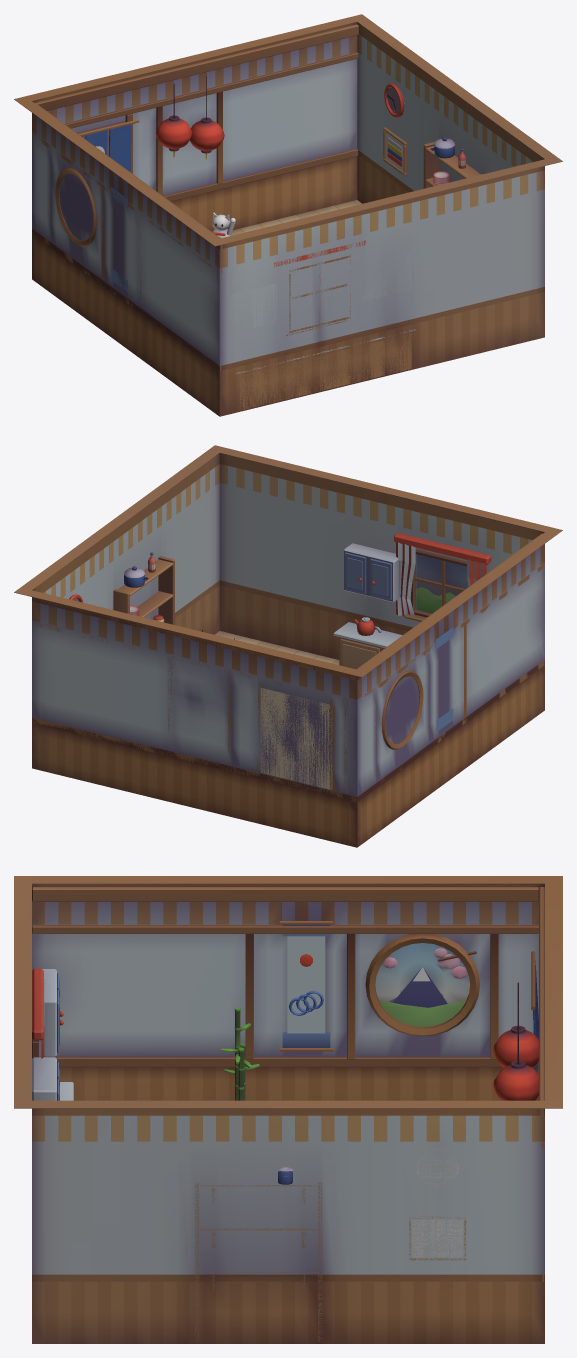
3 renders of one model, top to bottom at view 1: azimuth 30°, elevation 25°; view 2: azimuth 150°, elevation 25°; view 3: azimuth 270°, elevation 25°, orthographic. The views are drawn at different scales.
Parts seen in each view (by area): view 1: back, room, table; view 2: room, back, table; view 3: back, room, props.
Boxes of the visible parts, x1,y1,x2,y2 form: back: [208, 14, 562, 416]; room: [14, 17, 358, 416]; table: [231, 200, 361, 235]; room: [25, 532, 556, 847]; back: [14, 445, 562, 669]; table: [215, 631, 339, 664]; back: [14, 876, 562, 1343]; room: [32, 876, 562, 1281]; props: [220, 1007, 259, 1100].
Size of the model in its own units: 9.2 by 4.5 by 9.2.
